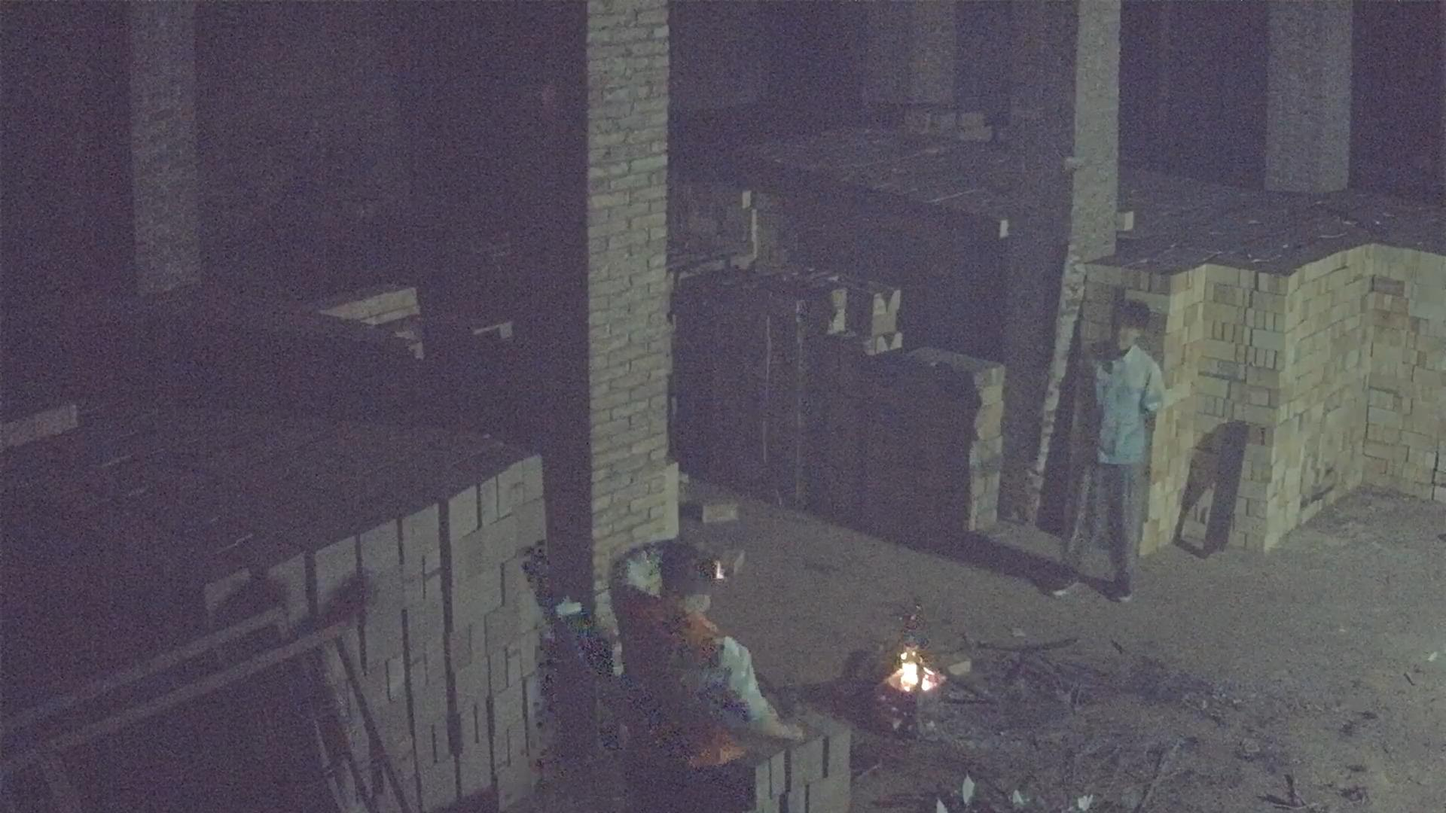fire: (887, 652, 942, 694)
